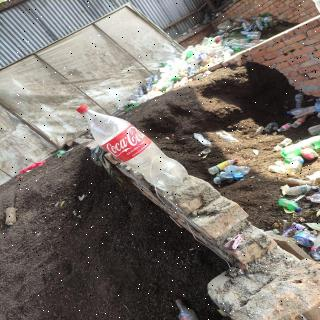Plastic-bottle: (70, 103, 193, 198)
